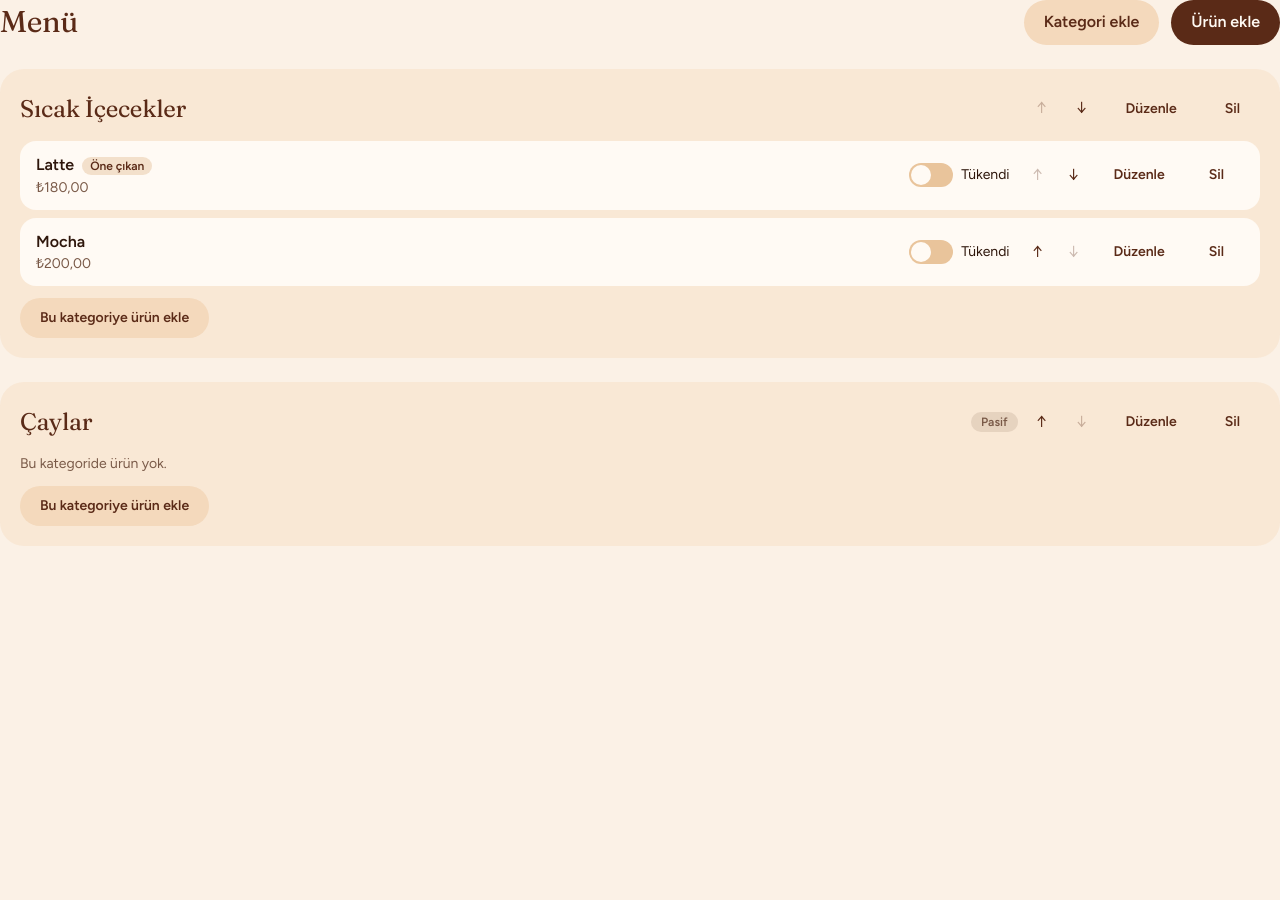
Test: AdminMenuPage › explains why a category with products cannot be deleted
Step 1. Click the button with aria-label "Sıcak İçecekler kategorisini sil" → [1232, 109], box [1205, 89, 1260, 129]
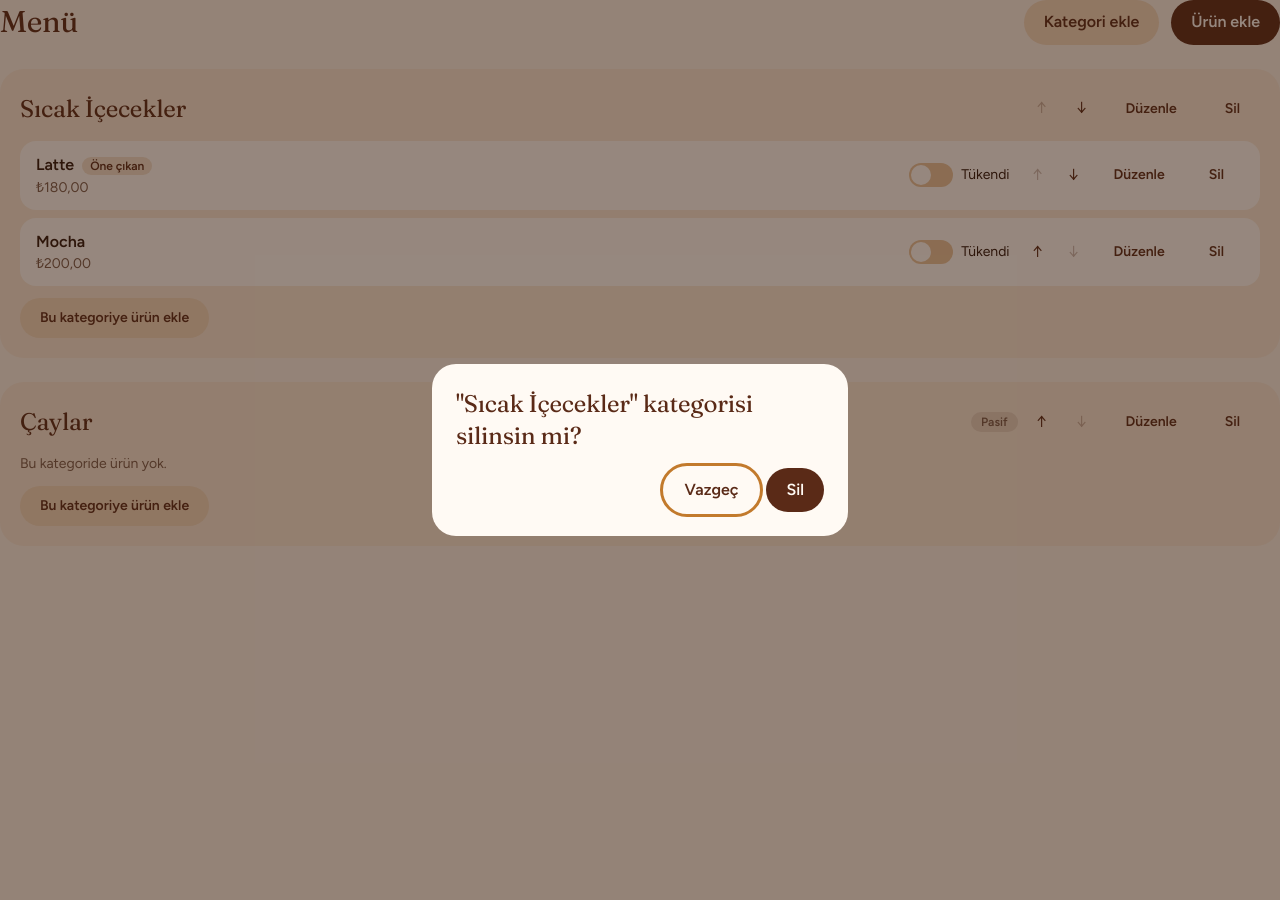
Step 2. Click the button "Sil" → [795, 490], box [766, 468, 824, 512]
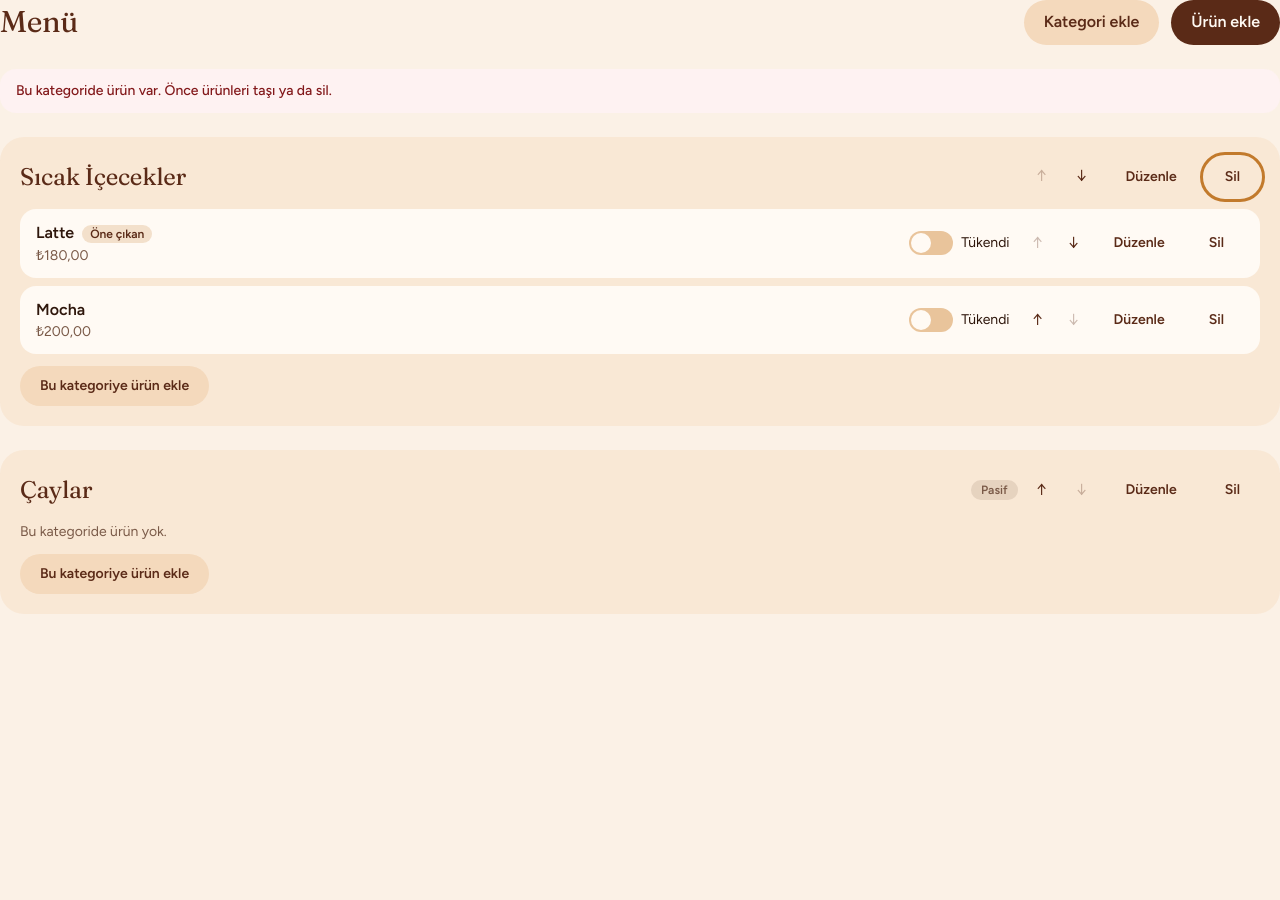
Check: the message shows "Bu kategoride ürün var", box [16, 82, 332, 99]
